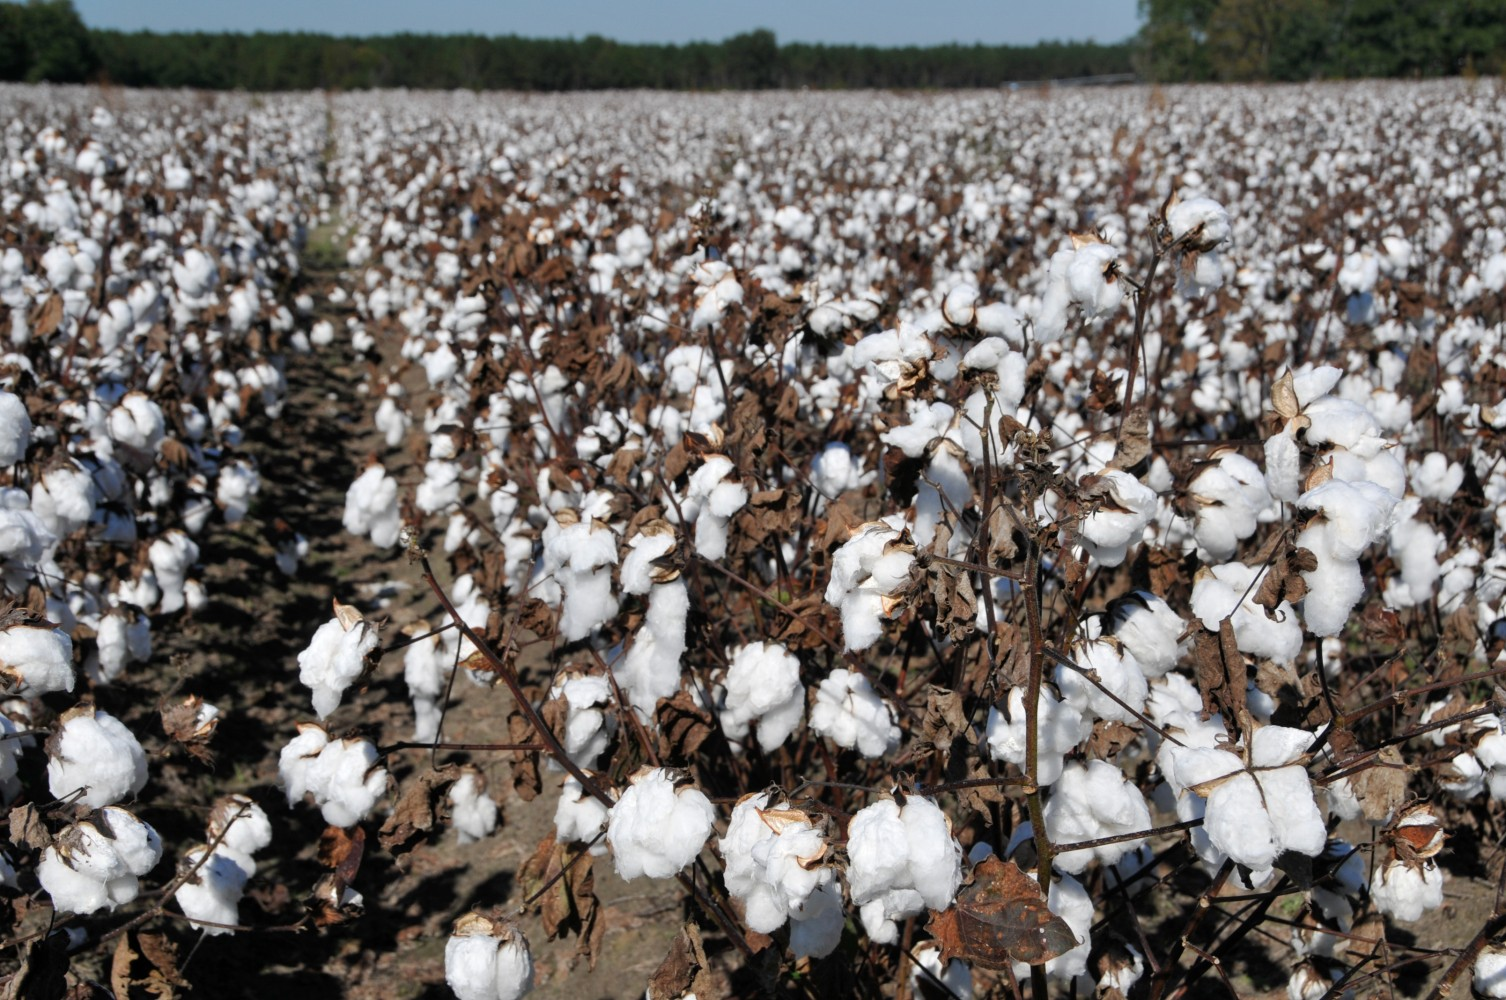cotton: (527, 156, 1119, 559), (579, 646, 1049, 953), (19, 181, 242, 586), (1234, 298, 1457, 666), (29, 626, 290, 941), (1149, 706, 1379, 863)
